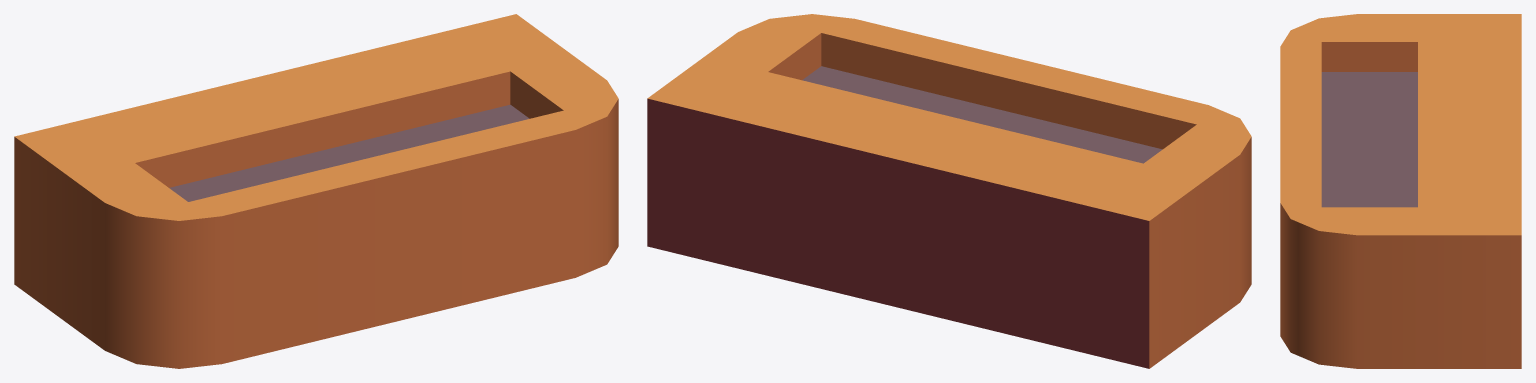
File: PlanterBox_Orange02.glb
3 renders of one model, left to right at view 1: azimuth 30°, elevation 25°; view 2: azimuth 150°, elevation 25°; view 3: azimuth 270°, elevation 25°, orthographic. The views are drawn at different scales.
Parts seen in each view (by area): view 1: PlanterBox_Orange02; view 2: PlanterBox_Orange02; view 3: PlanterBox_Orange02.
Part boxes in pixels (x1,y1,x2,y2): PlanterBox_Orange02: [14, 14, 618, 368]; PlanterBox_Orange02: [647, 14, 1251, 368]; PlanterBox_Orange02: [1280, 14, 1521, 368].
Bounding box in the file's own units: 0.9727 × 0.2738 × 0.4483.
1 material, 1 textured.
